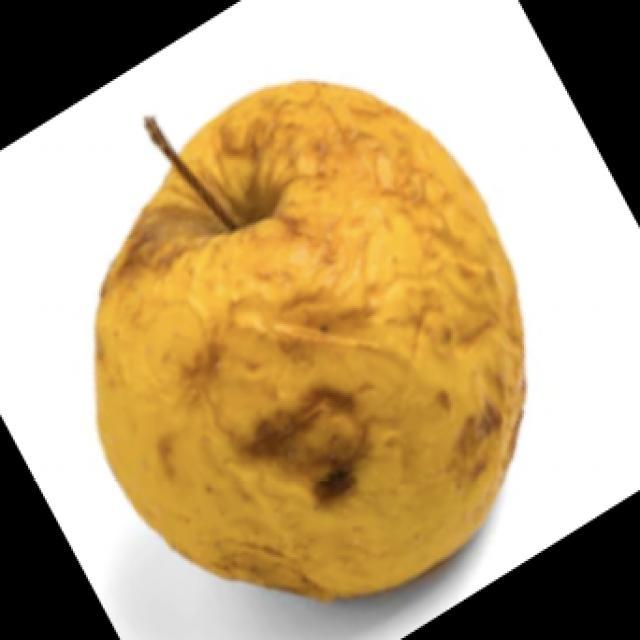Rotten: (88, 85, 520, 607)
